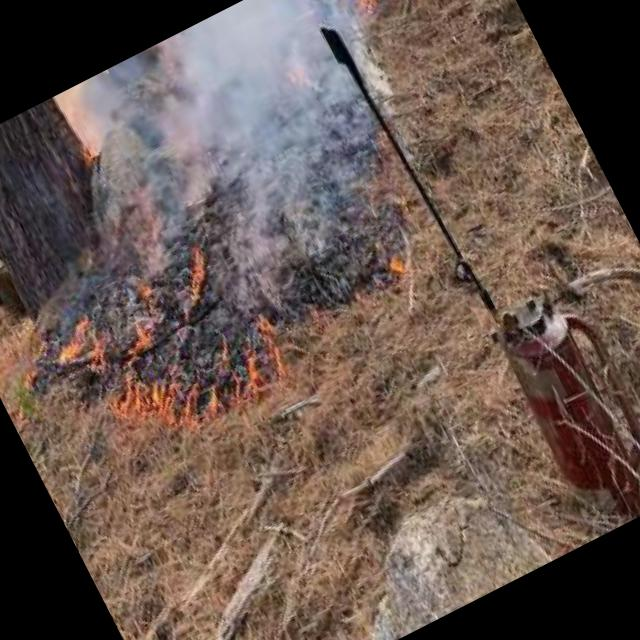fire: (98, 302, 310, 469), (48, 243, 234, 390), (370, 235, 420, 296)
smoke: (44, 0, 446, 321)
